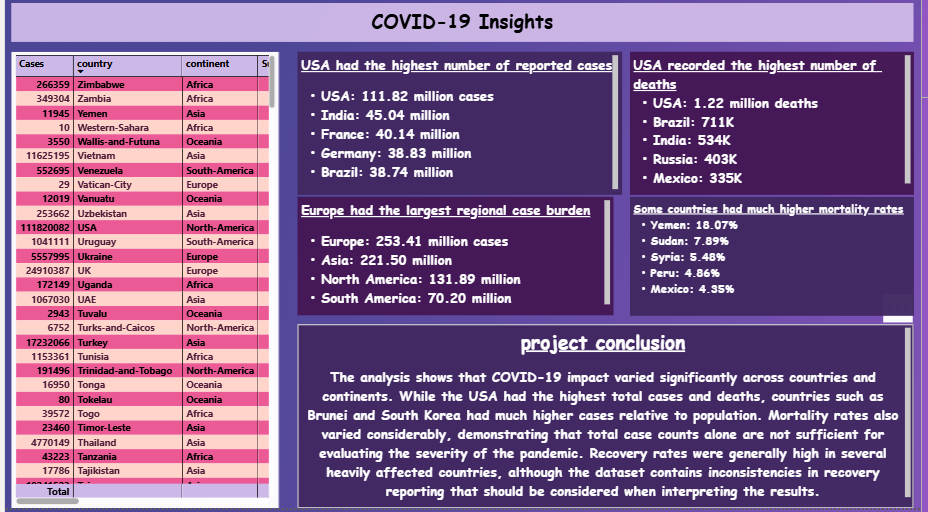

The dashboard page shown, as its layout file describes it:
{"tool":"powerbi","page":{"name":"Page 4","canvas":[1280,720],"ordinal":3},"visuals":[{"type":"textbox","box":[8.7,14,1261.1,54.1],"z":0},{"type":"tableEx","fields":{"Values":["covid_19.Cases","covid_19.country","covid_19.continent","Sum(covid_19.Deaths)","Sum(covid_19.Infection Rate)","Sum(covid_19.population)","Sum(covid_19.Recovered)","Sum(covid_19.Tests)","Sum(covid_19.Recovery_rate)","Sum(covid_19.Death_rate)","covid_19.time.Variation.Date Hierarchy.Year","covid_19.time.Variation.Date Hierarchy.Quarter"]},"box":[8.7,82.1,373.8,637.6],"z":1000},{"type":"textbox","box":[408.3,463.3,861.7,256.7],"z":1001},{"type":"textbox","box":[408.3,81.7,453.3,200],"z":1002},{"type":"textbox","box":[408.7,284.7,441.9,165.9],"z":1003},{"type":"textbox","box":[873.3,81.7,396.7,200],"z":1004},{"type":"textbox","box":[873.3,285,396.7,166.7],"z":1005}]}

Visuals, with their boxes in screenshot pixels (x1, y1, x2, y2), scaled from the page's 1280x720 canvas onto the 928x512 screenshot:
textbox: {"left": 6, "top": 10, "right": 921, "bottom": 48}
tableEx - covid_19.Cases x covid_19.country: {"left": 6, "top": 58, "right": 277, "bottom": 511}
textbox: {"left": 296, "top": 329, "right": 921, "bottom": 511}
textbox: {"left": 296, "top": 58, "right": 625, "bottom": 200}
textbox: {"left": 296, "top": 202, "right": 617, "bottom": 320}
textbox: {"left": 633, "top": 58, "right": 921, "bottom": 200}
textbox: {"left": 633, "top": 203, "right": 921, "bottom": 321}
